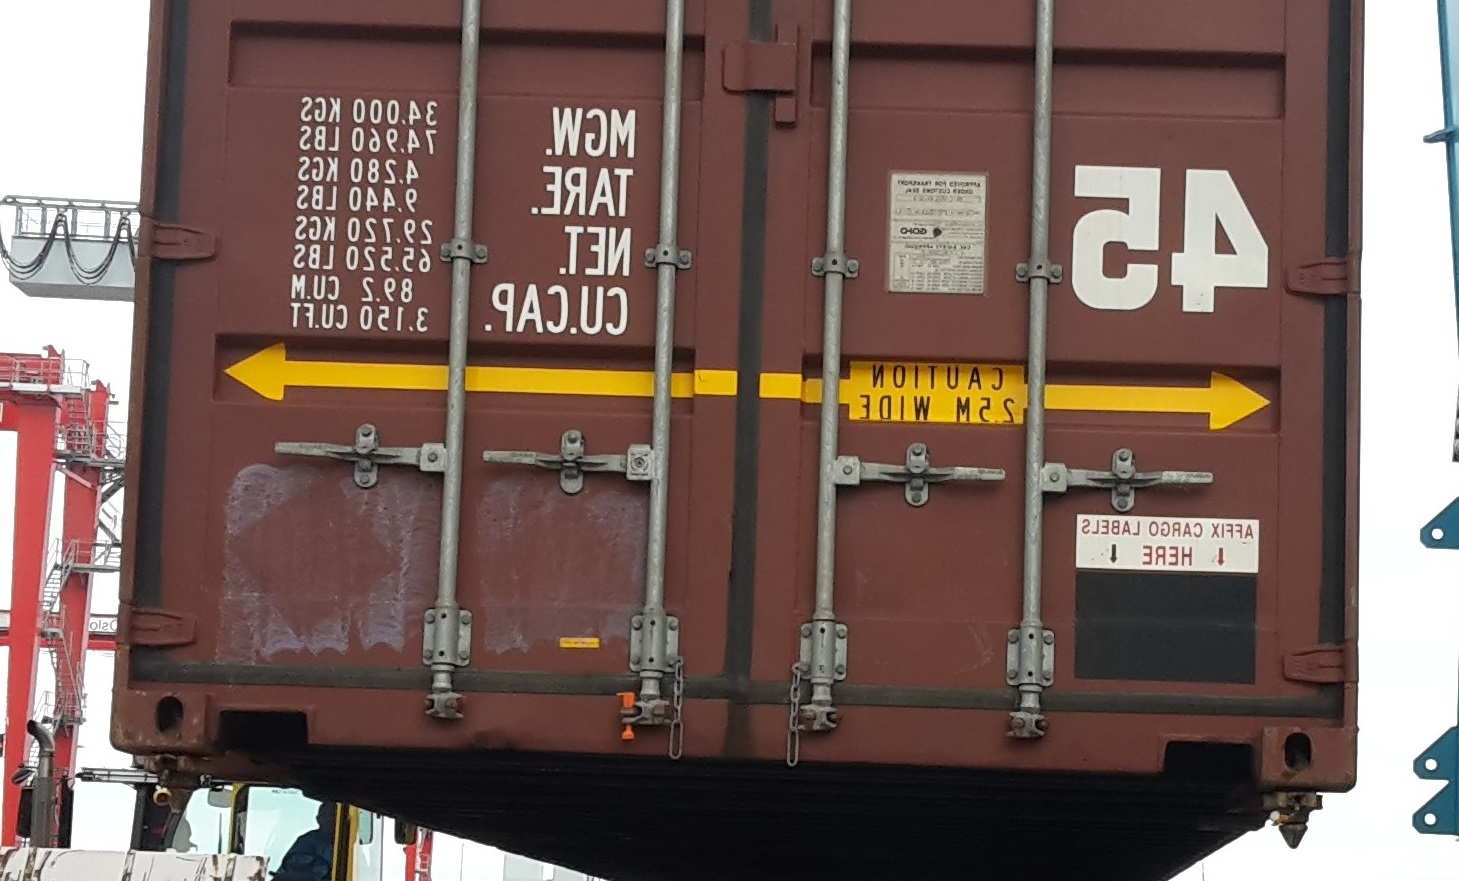container_door: (112, 5, 1359, 801)
